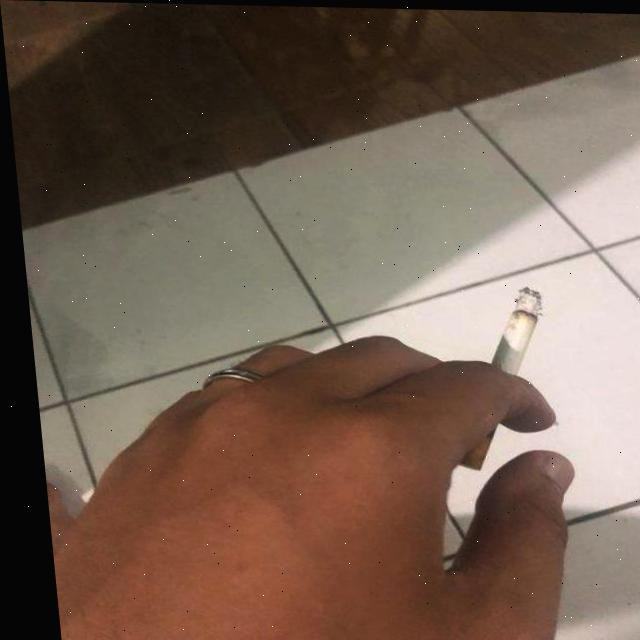cigarette: (438, 286, 550, 468)
